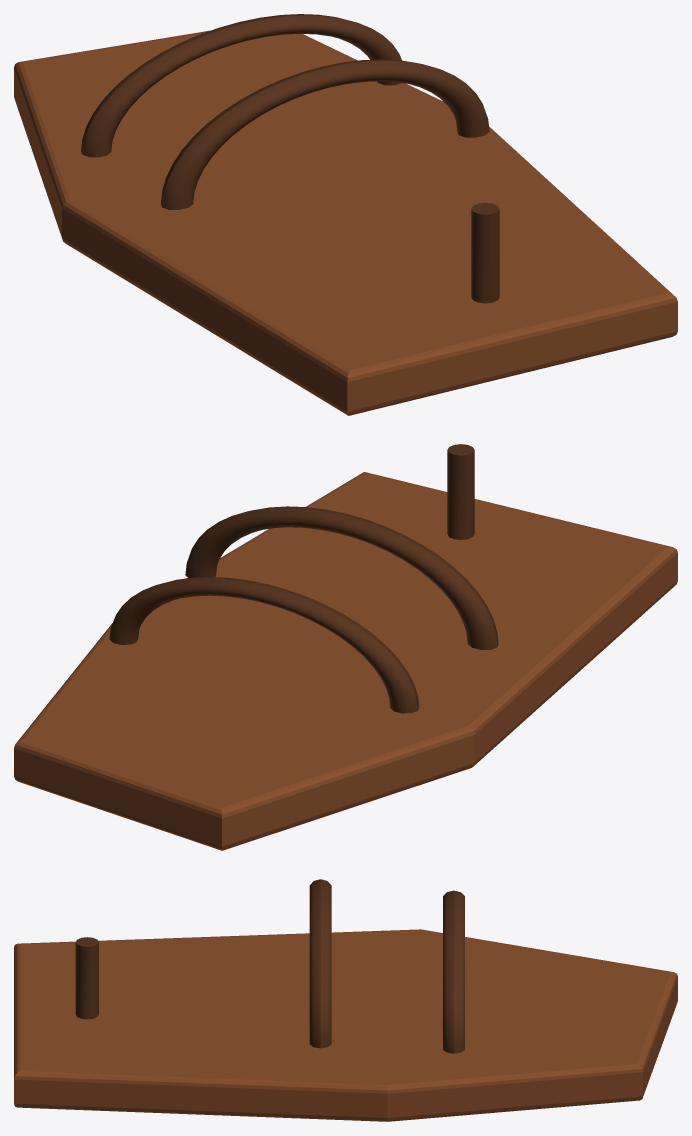
3 views of the same model, one above another, from view 1: azimuth 30°, elevation 25°; view 2: azimuth 150°, elevation 25°; view 3: azimuth 270°, elevation 25° (orthographic). The views are drawn at different scales.
Parts seen in each view (by area): view 1: OBJ-008 — DEMO NON_VALIDE; view 2: OBJ-008 — DEMO NON_VALIDE; view 3: OBJ-008 — DEMO NON_VALIDE.
Boxes of the visible parts, bbox=[...] form: OBJ-008 — DEMO NON_VALIDE: bbox=[14, 14, 677, 415]; OBJ-008 — DEMO NON_VALIDE: bbox=[14, 444, 677, 850]; OBJ-008 — DEMO NON_VALIDE: bbox=[14, 879, 677, 1121].
Size of the model in its own units: 1.14 by 0.4713 by 2.
